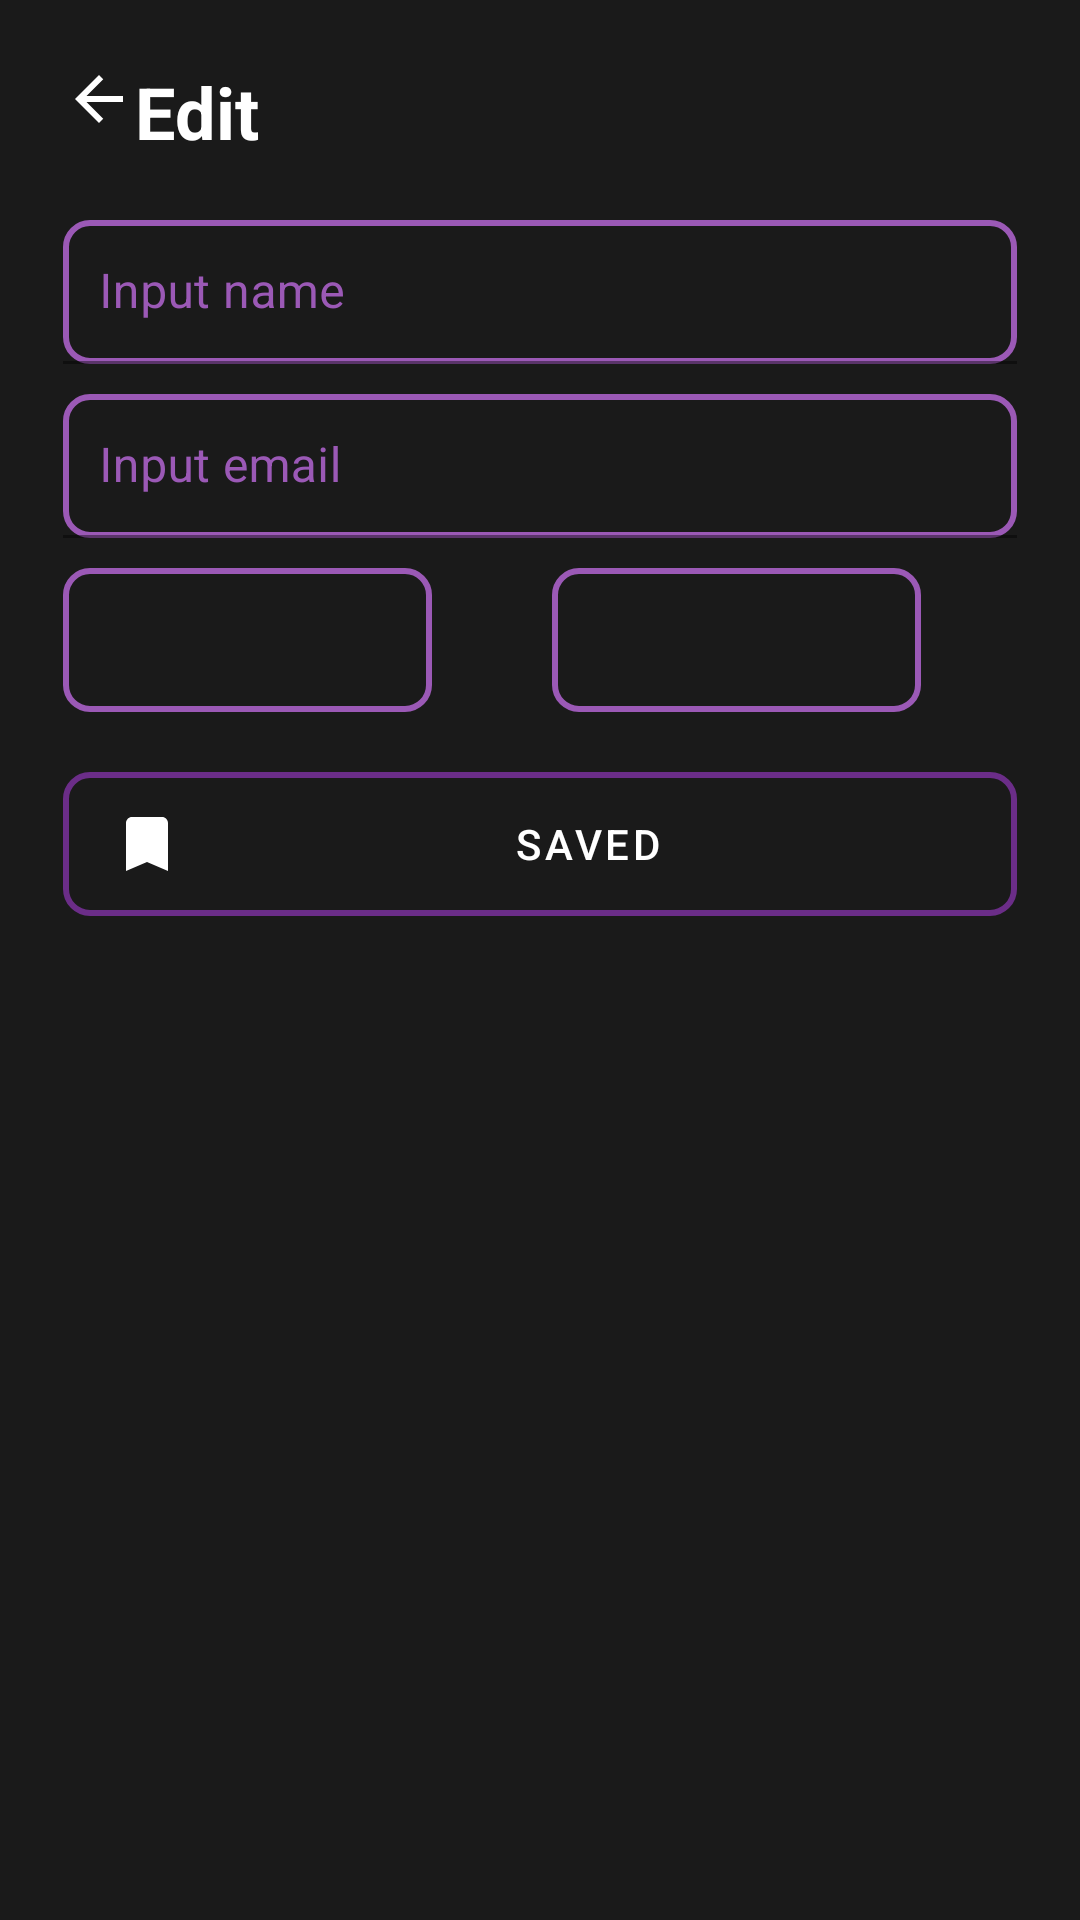

Point at icon controls on the screen. Image size 1080*1920, points as point (x, y).
Back: point (99, 99)
